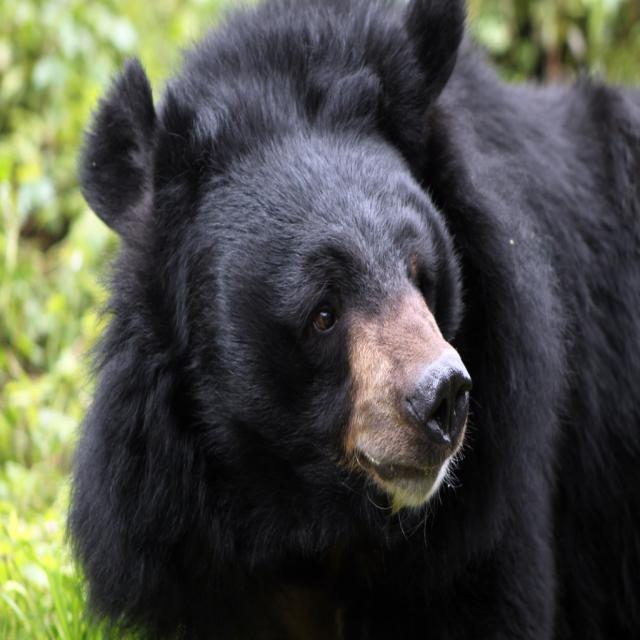Buffalo: (62, 0, 639, 639)
